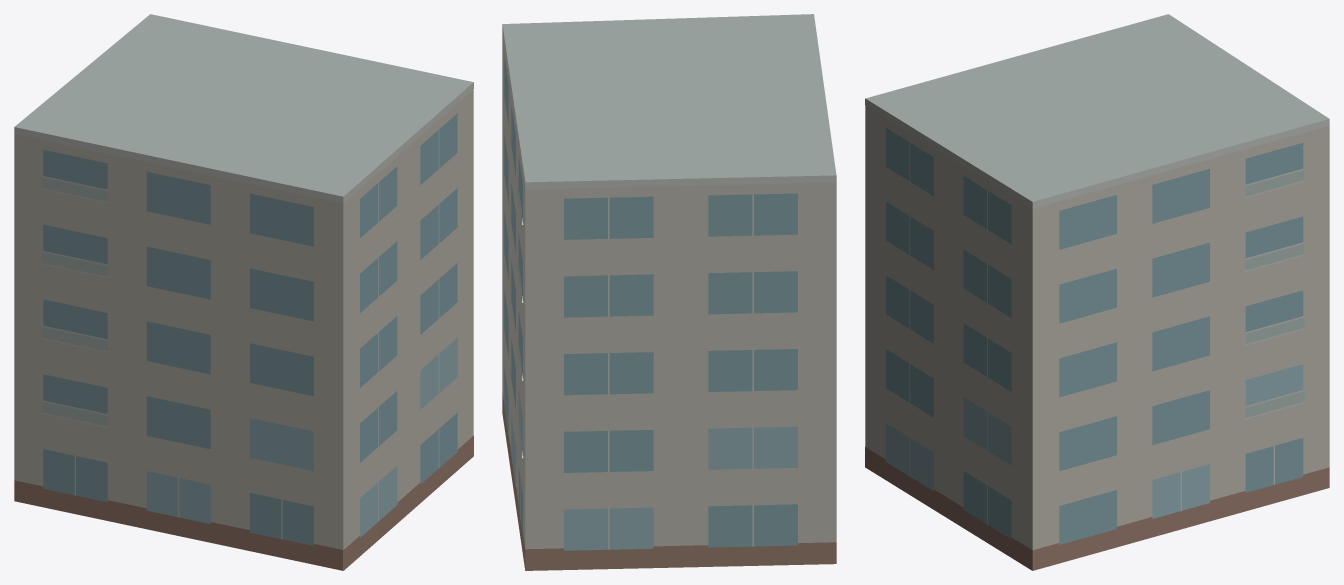
File: survey-upis-32888346.glb
3 views of the same model, side by side, from view 1: azimuth 30°, elevation 25°; view 2: azimuth 150°, elevation 25°; view 3: azimuth 270°, elevation 25° (orthographic). The views are drawn at different scales.
Visible parts, largest first — view 1: survey-upis-32888346.tmp; view 2: survey-upis-32888346.tmp; view 3: survey-upis-32888346.tmp.
Boxes of the visible parts, <box> form: survey-upis-32888346.tmp: <box>14,14,473,570</box>; survey-upis-32888346.tmp: <box>502,14,836,570</box>; survey-upis-32888346.tmp: <box>865,14,1329,570</box>.
Bounding box in the file's own units: 14.54 × 13.3 × 15.18.
